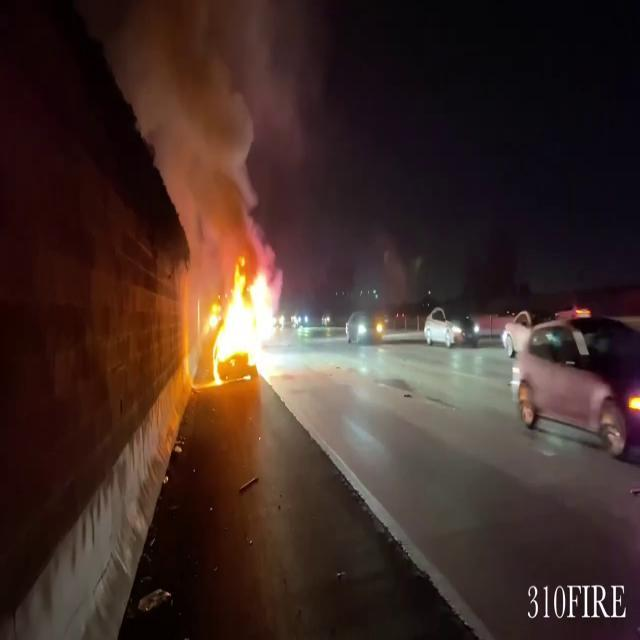Fire: (196, 258, 286, 384)
Smoke: (122, 0, 276, 262)
